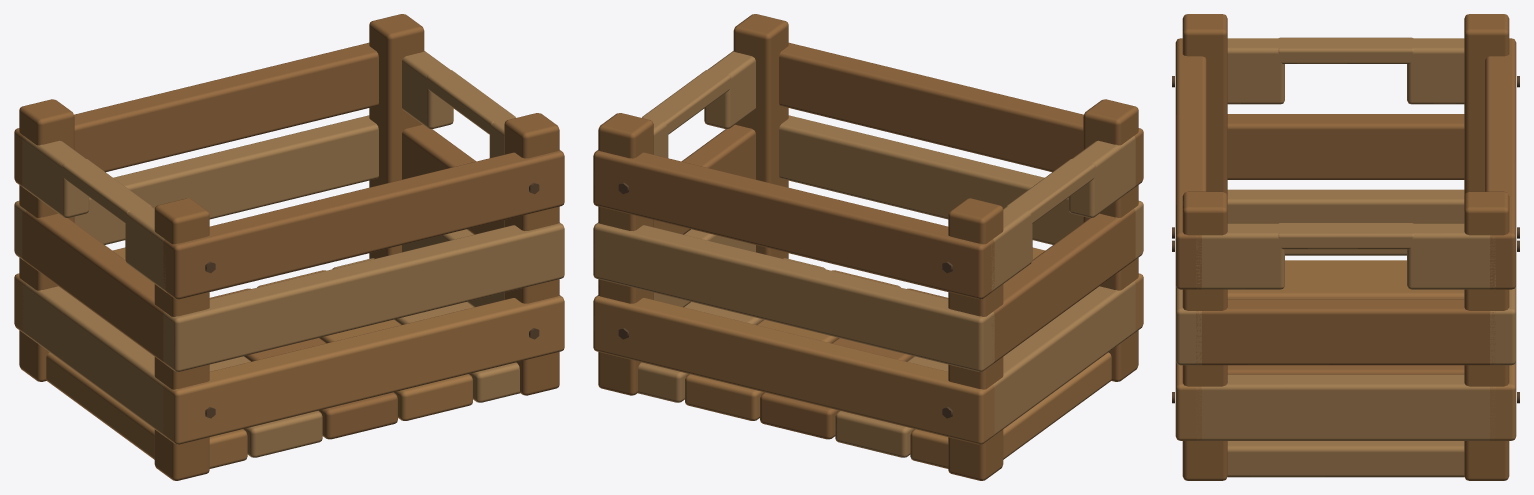
Rendered from farm-crate.glb.
3 views of the same model, side by side, from view 1: azimuth 30°, elevation 25°; view 2: azimuth 150°, elevation 25°; view 3: azimuth 270°, elevation 25° (orthographic). The views are drawn at different scales.
Parts seen in each view (by area): view 1: farm-crate; view 2: farm-crate; view 3: farm-crate.
Part boxes in pixels (x1=…): farm-crate: x1=14, y1=14, x2=564, y2=480; farm-crate: x1=593, y1=14, x2=1143, y2=480; farm-crate: x1=1172, y1=14, x2=1519, y2=480.
Size of the model in its own units: 1.35 by 0.87 by 1.
